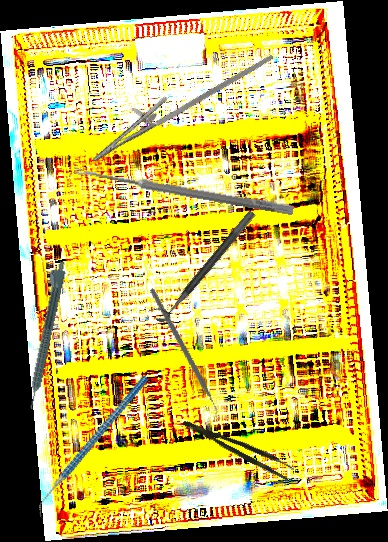Chopper: (5, 375, 182, 519), (108, 287, 257, 424)
Fixation Ring: (147, 201, 257, 327)
Handpiece: (20, 259, 68, 410)
Needle Holder: (82, 21, 275, 183)
Surgical Spoon: (72, 165, 295, 216)
Tissue Forceps: (181, 411, 296, 482)
